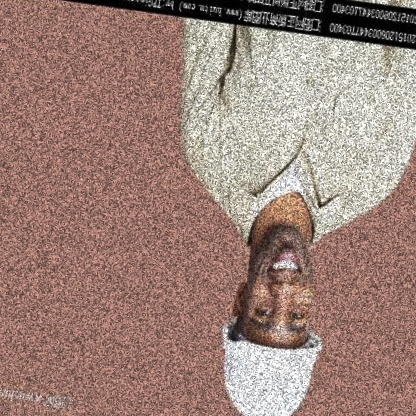white: (204, 321, 326, 416)
